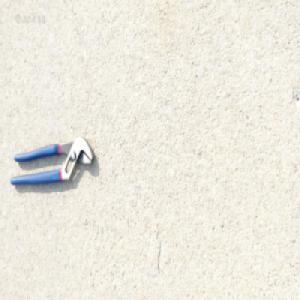Pliers: (8, 133, 95, 189)
